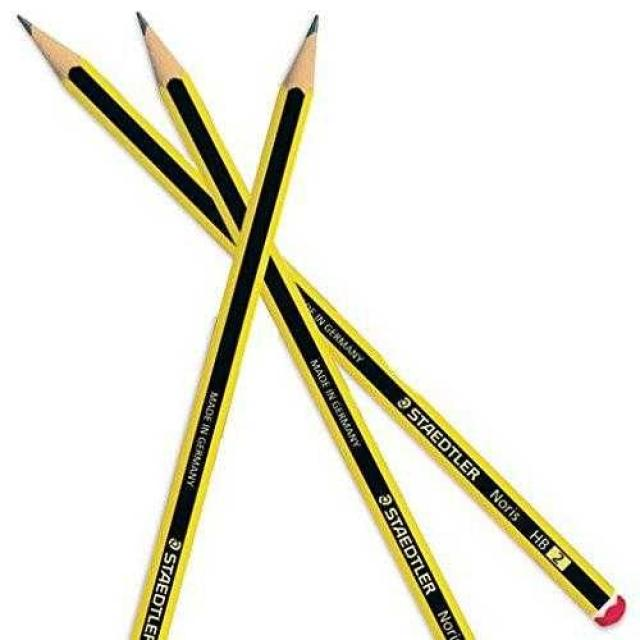pencil: (6, 4, 639, 639), (115, 1, 490, 639), (118, 5, 337, 639)
